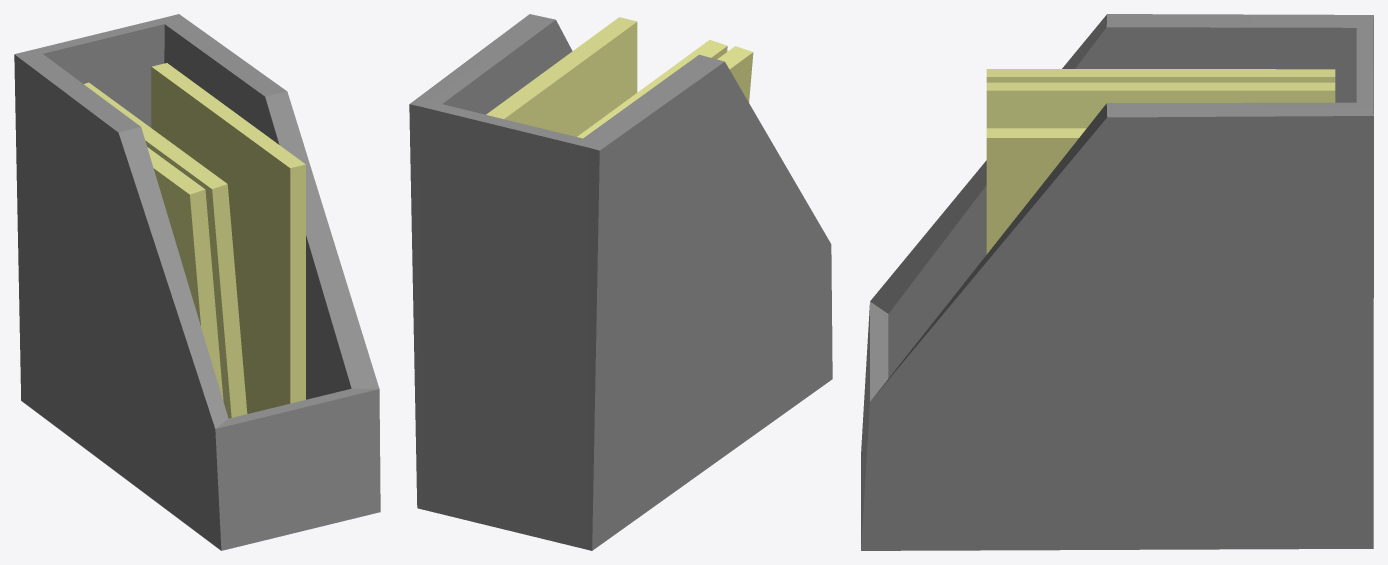
Rendered from Sortierbox.FBX.
3 renders of one model, left to right at view 1: azimuth 30°, elevation 25°; view 2: azimuth 150°, elevation 25°; view 3: azimuth 270°, elevation 25°, orthographic. The views are drawn at different scales.
Parts seen in each view (by area): view 1: Sortierbox; view 2: Sortierbox; view 3: Sortierbox.
Part boxes in pixels (x1,y1,x2,y2): Sortierbox: (14,14,380,550); Sortierbox: (409,14,832,550); Sortierbox: (861,14,1373,550).
Bounding box in the file's own units: 6.36 × 12.56 × 13.33.
